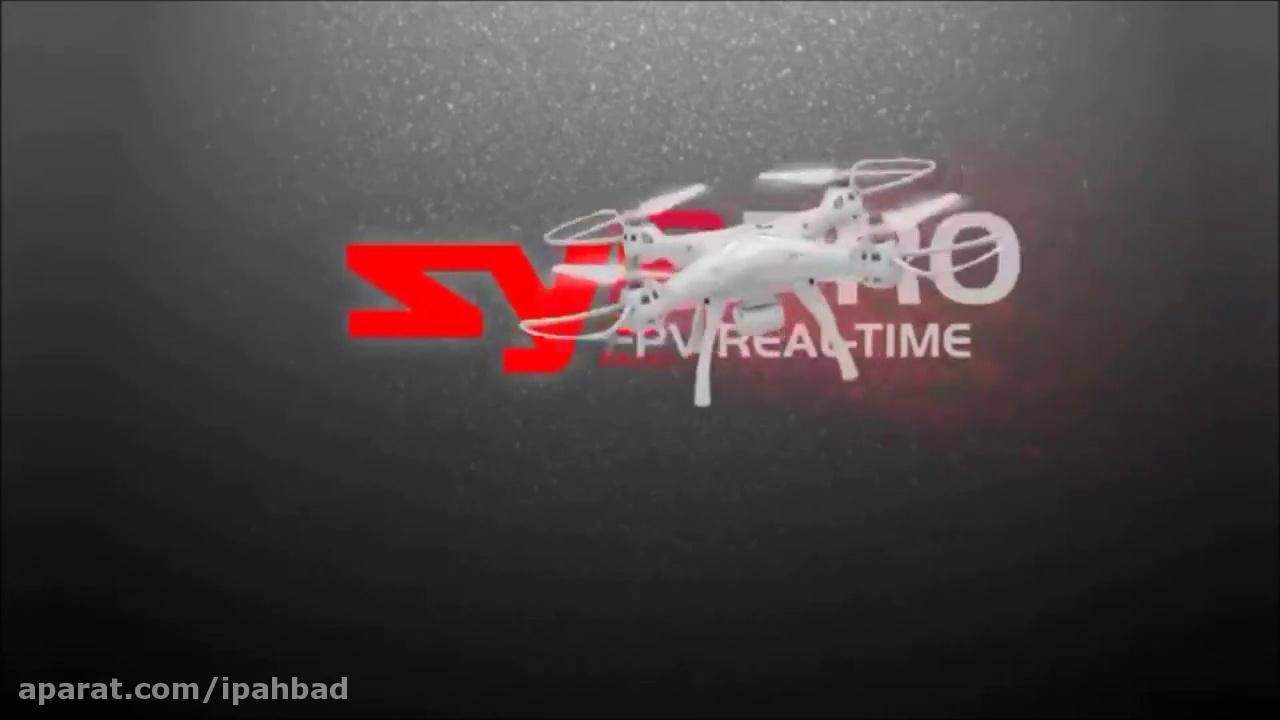drone: (516, 154, 1007, 408)
